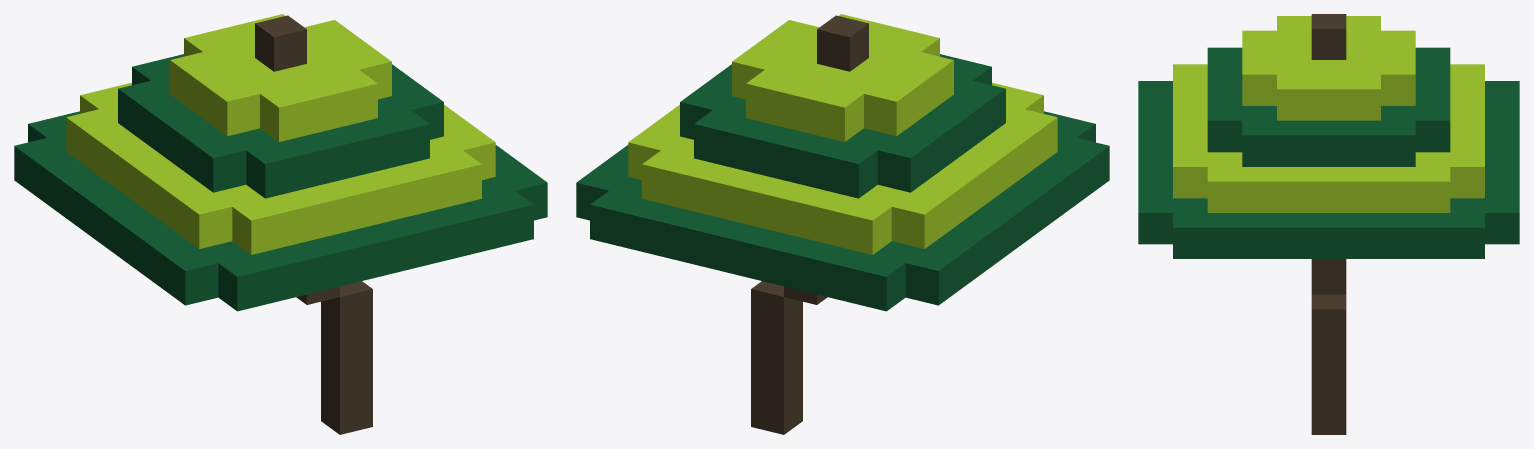
File: umbrella_2.obj
3 renders of one model, left to right at view 1: azimuth 30°, elevation 25°; view 2: azimuth 150°, elevation 25°; view 3: azimuth 270°, elevation 25°, orthographic. The views are drawn at different scales.
Size of the model in its own units: 1.1 by 1.2 by 1.1.
1 material, 1 textured.
